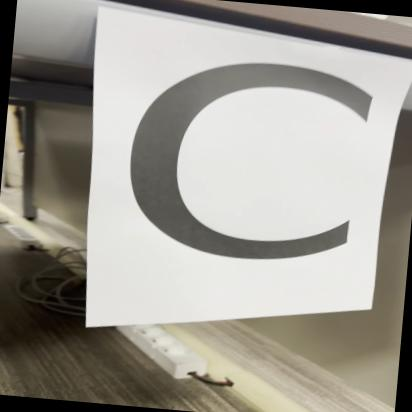seat: (79, 17, 396, 316)
